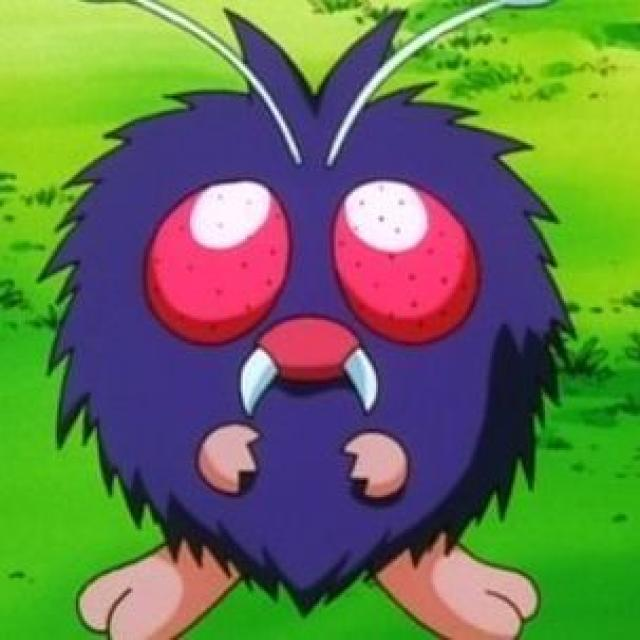Venonat: (8, 0, 608, 640)
